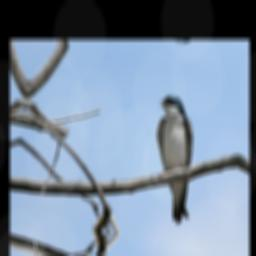Swallow: (142, 93, 204, 226)
